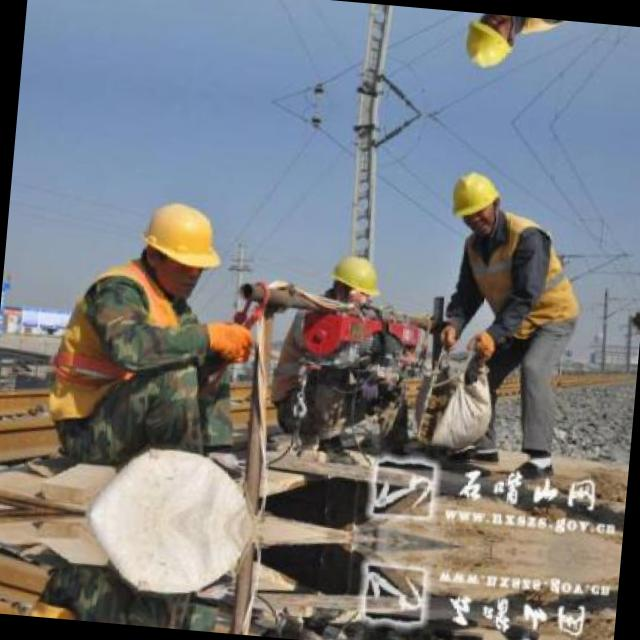helmet: (133, 192, 227, 298), (445, 164, 506, 238), (459, 12, 521, 76), (322, 246, 383, 310)
